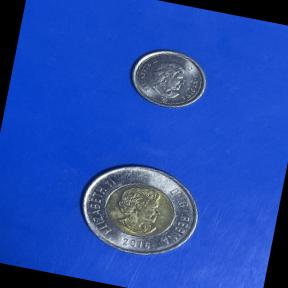Canada-10cent-B: (122, 38, 216, 119)
Canada-2Dollar-B: (66, 148, 212, 270)
